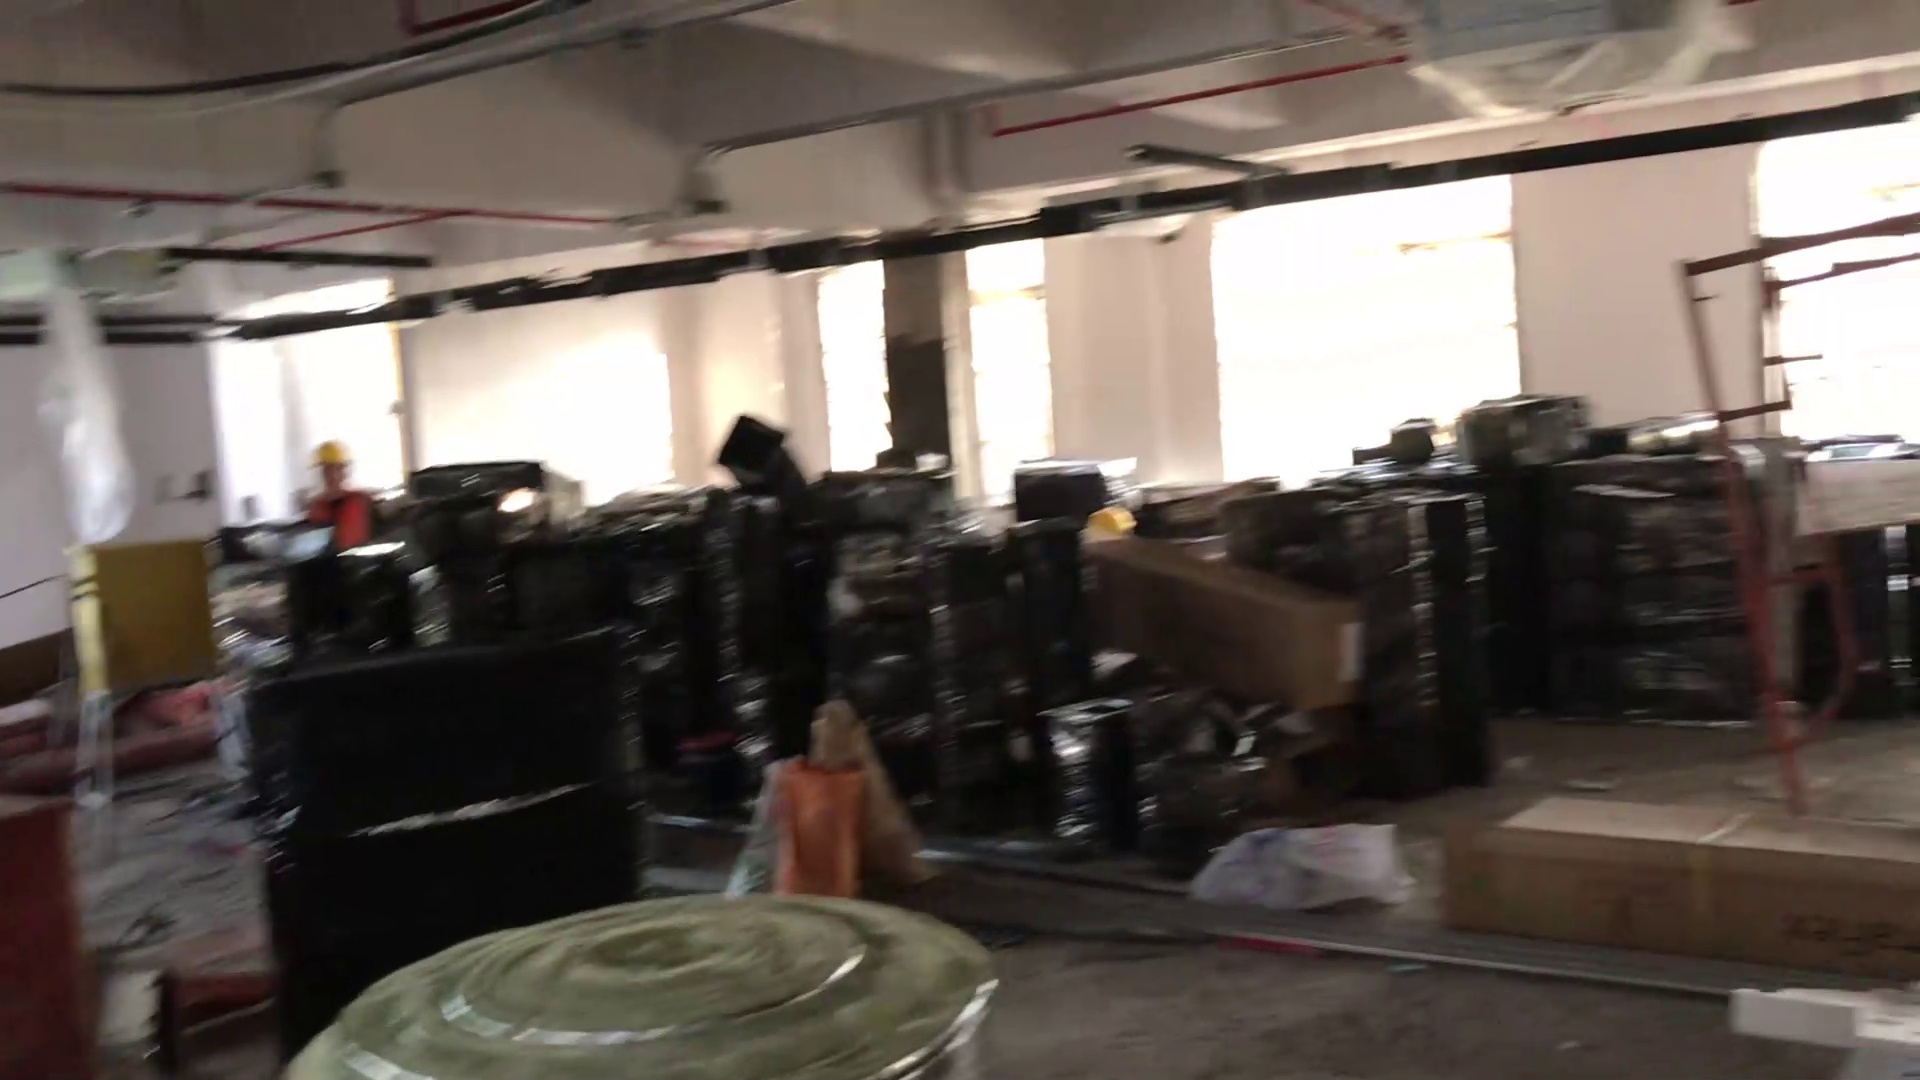ebox: (48, 532, 257, 828)
helmet: (1089, 499, 1136, 535), (308, 436, 354, 465)
person: (744, 696, 918, 905), (300, 438, 391, 556)
vest: (314, 496, 381, 550)
